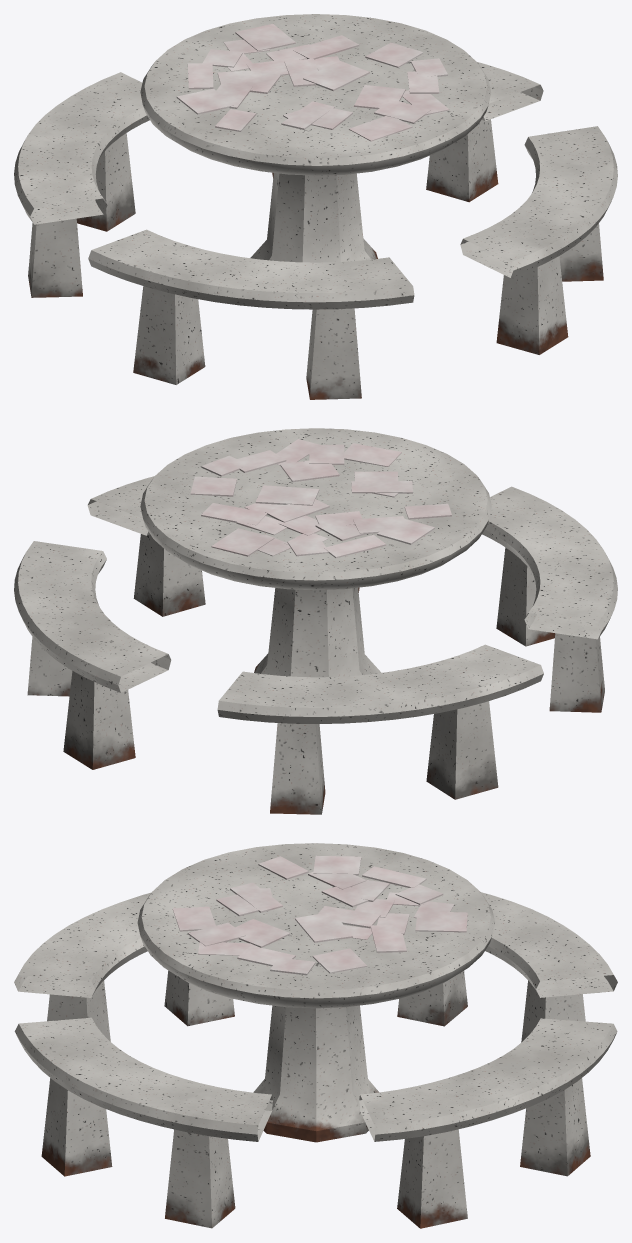
The model's file is MarbleTableSet.fbx.
3 views of the same model, one above another, from view 1: azimuth 30°, elevation 25°; view 2: azimuth 150°, elevation 25°; view 3: azimuth 270°, elevation 25° (orthographic).
Parts seen in each view (by area): view 1: MarbleTable, MarbleBench3, MarbleBench4, MarbleBench2, MarbleBench1; view 2: MarbleTable, MarbleBench2, MarbleBench1, MarbleBench3, MarbleBench4; view 3: MarbleTable, MarbleBench1, MarbleBench4, MarbleBench2, MarbleBench3.
Boxes of the visible parts, x1=… form: MarbleTable: x1=140, y1=14, x2=491, y2=262; MarbleBench3: x1=88, y1=229, x2=414, y2=399; MarbleBench4: x1=460, y1=126, x2=617, y2=354; MarbleBench2: x1=14, y1=72, x2=149, y2=297; MarbleBench1: x1=272, y1=62, x2=543, y2=202; MarbleTable: x1=140, y1=428, x2=491, y2=677; MarbleBench2: x1=217, y1=644, x2=543, y2=814; MarbleBench1: x1=14, y1=541, x2=171, y2=769; MarbleBench3: x1=482, y1=486, x2=617, y2=712; MarbleBench4: x1=87, y1=476, x2=359, y2=616; MarbleTable: x1=137, y1=843, x2=494, y2=1142; MarbleBench1: x1=359, y1=1018, x2=617, y2=1228; MarbleBench4: x1=14, y1=1017, x2=272, y2=1228; MarbleBench2: x1=397, y1=892, x2=617, y2=1042; MarbleBench3: x1=14, y1=892, x2=234, y2=1041.
Size of the model in its own units: 204 by 73.94 by 203.
Materials: 1 (1 with a texture image).
